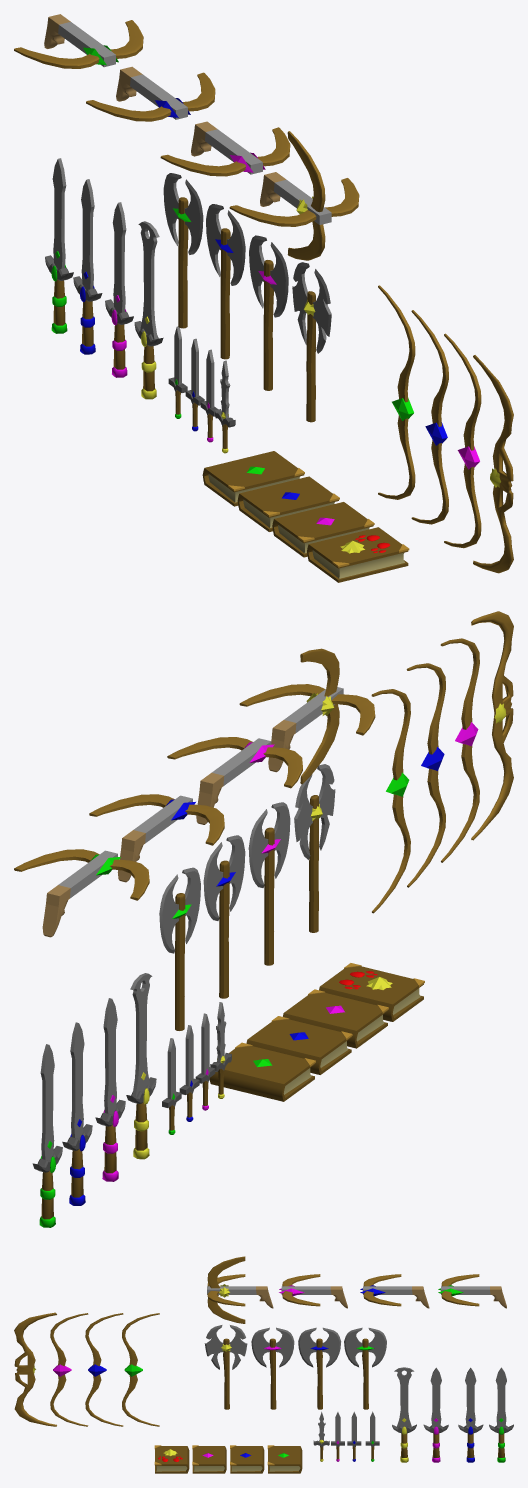
The model's file is weapon.fbx.
3 views of the same model, one above another, from view 1: azimuth 30°, elevation 25°; view 2: azimuth 150°, elevation 25°; view 3: azimuth 270°, elevation 25° (orthographic). The views are drawn at different scales.
Parts seen in each view (by area): view 1: crossbow_4, book_4, crossbow_1, crossbow_2, crossbow_3, book_1, book_6, book_7, axe_4, axe_1, axe_2, axe_3 (+12 smaller); view 2: crossbow_4, book_1, crossbow_1, crossbow_2, crossbow_3, book_6, book_7, book_4, axe_3, axe_2, axe_1, axe_4 (+12 smaller); view 3: crossbow_4, axe_2, axe_4, axe_3, axe_1, bow_4, crossbow_3, crossbow_2, crossbow_1, Sword_4, book_1, book_4 (+12 smaller).
Part boxes in pixels (x1,y1,x2,y2): crossbow_4: (229, 131, 359, 260); book_4: (307, 527, 409, 582); crossbow_1: (14, 14, 143, 68); crossbow_2: (86, 66, 215, 121); crossbow_3: (160, 121, 290, 176); book_1: (202, 451, 304, 506); book_6: (237, 476, 339, 531); book_7: (272, 502, 374, 557); axe_4: (292, 262, 331, 422); axe_1: (163, 173, 203, 328); axe_2: (206, 204, 245, 359); axe_3: (249, 235, 288, 390); crossbow_4: (239, 648, 375, 784); book_1: (209, 1042, 315, 1101); crossbow_1: (14, 849, 149, 937); crossbow_2: (89, 794, 224, 882); crossbow_3: (167, 737, 302, 824); book_6: (246, 1016, 352, 1074); book_7: (283, 989, 388, 1048); book_4: (319, 963, 424, 1021); axe_3: (248, 802, 290, 965); axe_2: (203, 835, 245, 998); axe_1: (159, 867, 200, 1030); axe_4: (294, 764, 335, 932); crossbow_4: (207, 1256, 273, 1323); axe_2: (298, 1327, 341, 1409); axe_4: (204, 1325, 247, 1409); axe_3: (251, 1327, 294, 1409); axe_1: (344, 1327, 386, 1409); bow_4: (14, 1312, 56, 1426); crossbow_3: (279, 1274, 347, 1308); crossbow_2: (360, 1274, 429, 1308); crossbow_1: (438, 1274, 506, 1308); Sword_4: (392, 1367, 416, 1462); book_1: (267, 1445, 302, 1473); book_4: (154, 1445, 189, 1473).
Size of the model in its own units: 1.02 by 3.13 by 6.85.
